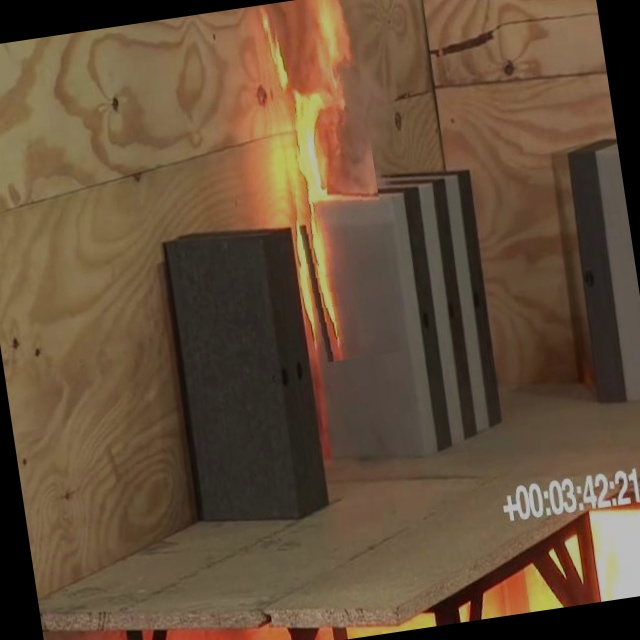fire: (232, 0, 409, 393)
